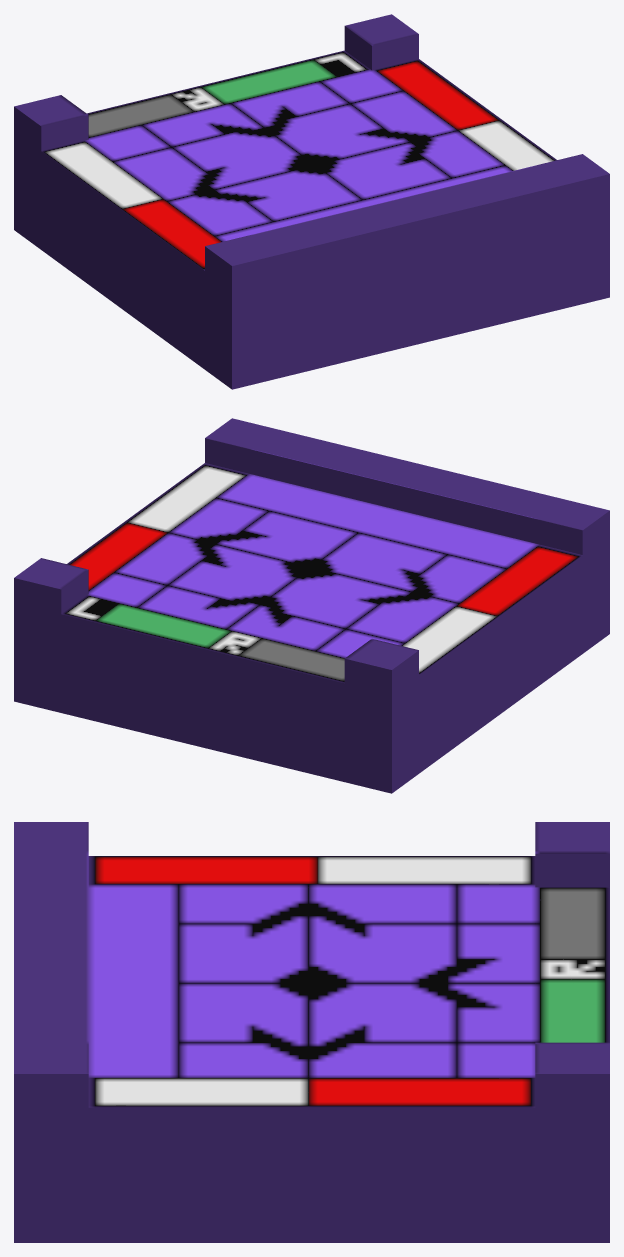
File: right_left.dae
The picture shows the model from 3 angles, top to bottom: view 1: azimuth 30°, elevation 25°; view 2: azimuth 150°, elevation 25°; view 3: azimuth 270°, elevation 25°; orthographic projection. The views are drawn at different scales.
Parts seen in each view (by area): view 1: RightLeft; view 2: RightLeft; view 3: RightLeft.
Boxes of the visible parts, box(x1,y1,x2,y2) form: RightLeft: box(14, 14, 609, 389); RightLeft: box(14, 418, 609, 793); RightLeft: box(14, 822, 609, 1242).
Size of the model in its own units: 4 by 4 by 1.25.
Materials: 1 (1 with a texture image).
